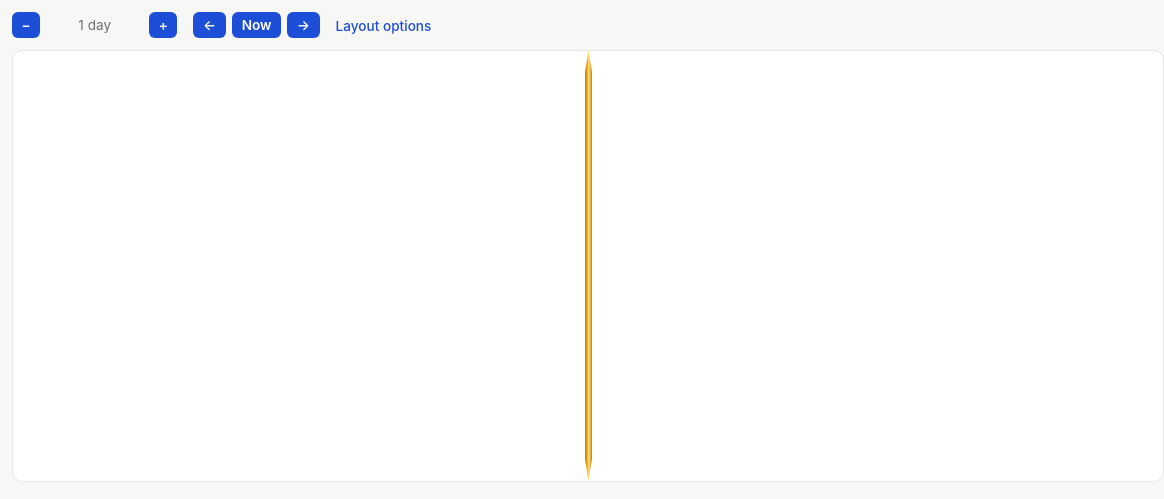
Test: Timeline › zooms to human-significant scales rather than arbitrary spans
Click the button named "zoom out": point(163, 25) x1=149 y1=12 x2=177 y2=38
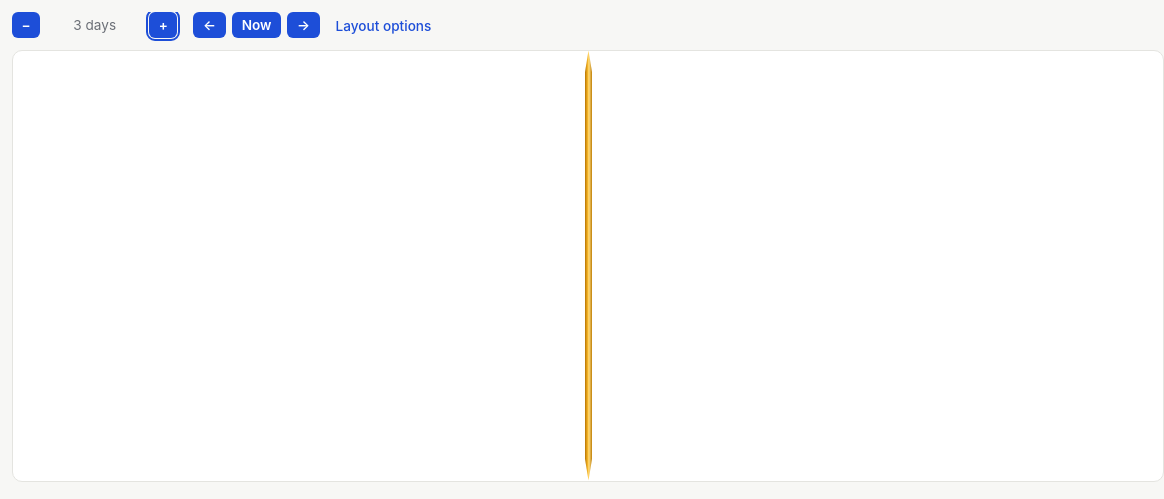
Check: the text "3 days" is shown, box x1=73 y1=17 x2=116 y2=33
Click the button named "zoom in": point(26, 25) x1=12 y1=12 x2=40 y2=38
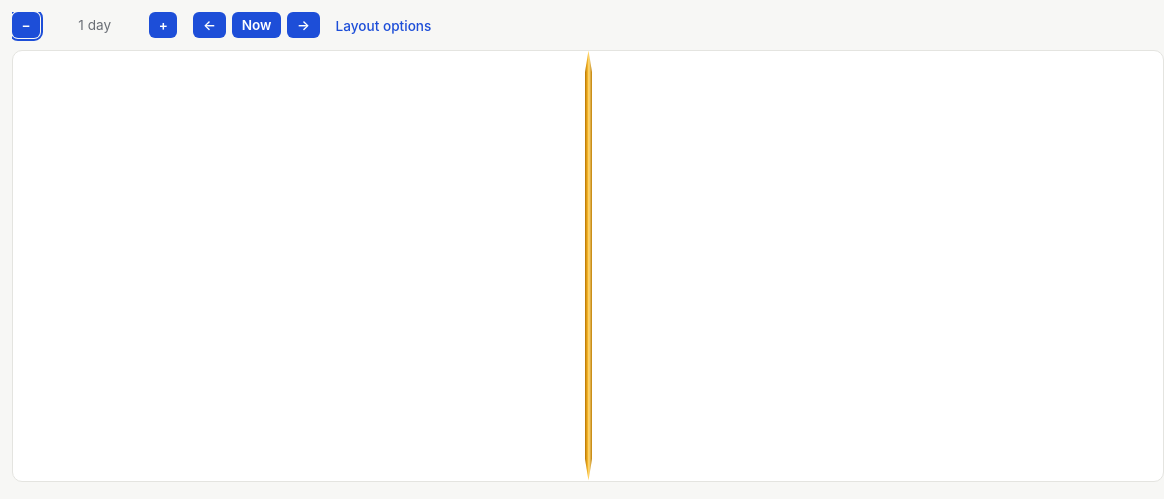
Check: the text "1 day" is shown, box x1=78 y1=17 x2=111 y2=33
